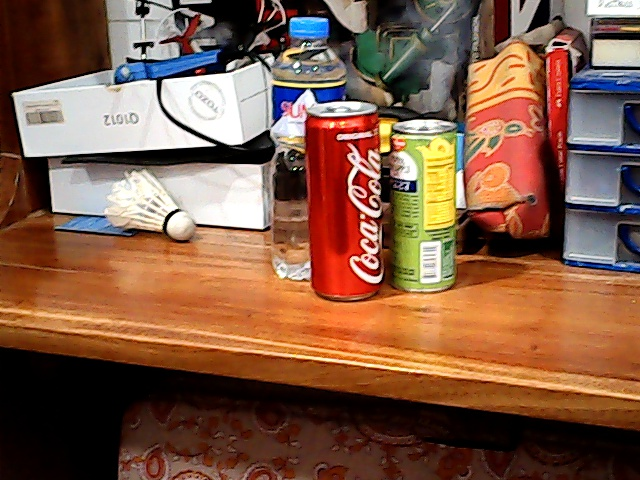Cola: (303, 91, 391, 305)
Pine Juice: (382, 113, 476, 297)
Summit Water: (263, 16, 316, 282)
